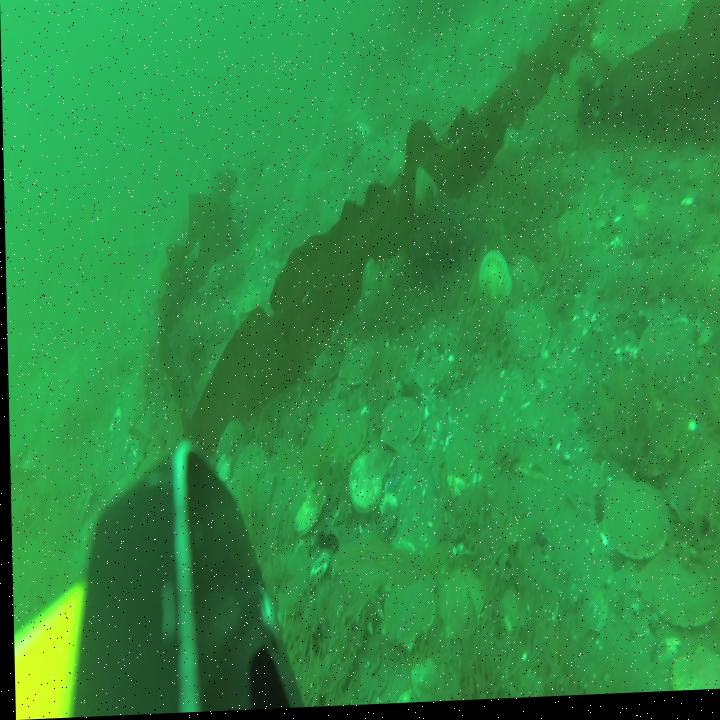scallop: (638, 550, 718, 645), (599, 481, 664, 569), (638, 317, 690, 403), (385, 582, 436, 654), (438, 572, 477, 650), (232, 449, 273, 520), (265, 552, 306, 619), (376, 398, 420, 459), (348, 455, 385, 520), (505, 304, 547, 361), (327, 409, 365, 471), (556, 208, 591, 262), (412, 349, 446, 404), (338, 342, 372, 394), (477, 256, 513, 305), (292, 484, 323, 538), (508, 257, 538, 306)
